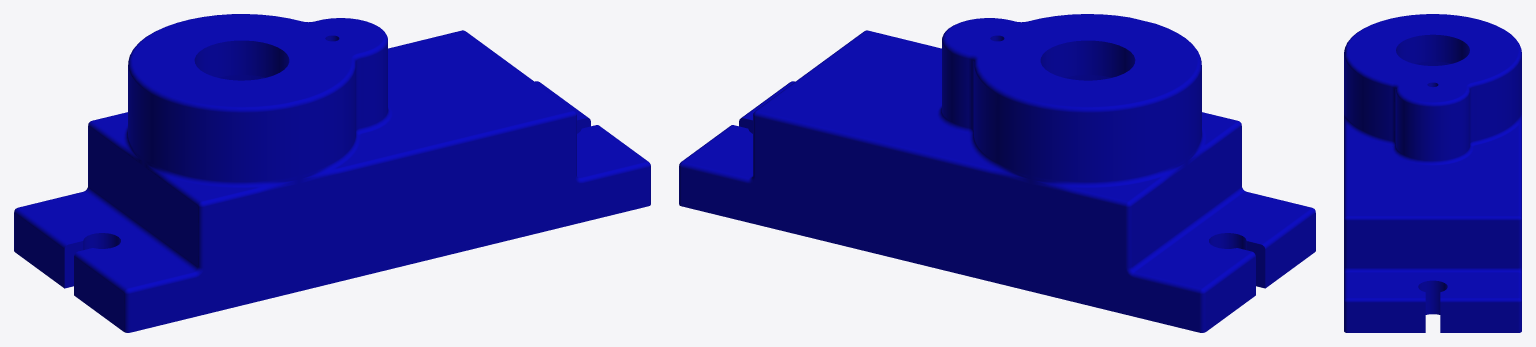
Rendered from part 5 top cover.fbx.
3 views of the same model, side by side, from view 1: azimuth 30°, elevation 25°; view 2: azimuth 150°, elevation 25°; view 3: azimuth 270°, elevation 25° (orthographic). The views are drawn at different scales.
Parts seen in each view (by area): view 1: Default; view 2: Default; view 3: Default.
Part boxes in pixels (box(x1,y1,x2,y2)): Default: box(14, 14, 650, 332); Default: box(679, 14, 1315, 332); Default: box(1344, 14, 1521, 332).
Bounding box in the file's own units: 32 × 11 × 12.
